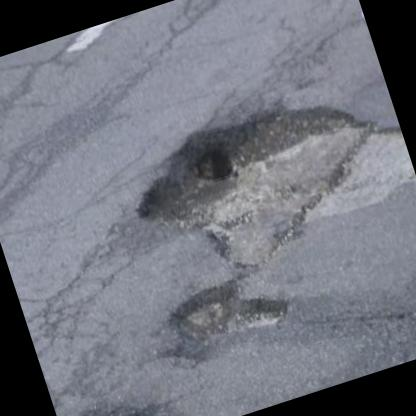pothole: (116, 74, 406, 296), (154, 262, 294, 360), (78, 379, 187, 416)
